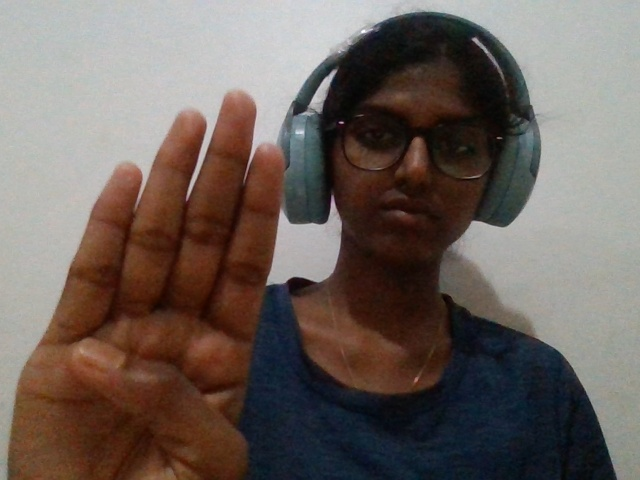B: (4, 71, 281, 480)
